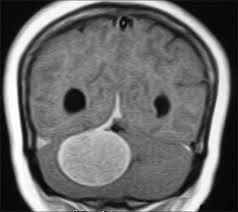Tumour-Meningioma: (57, 93, 142, 194)
